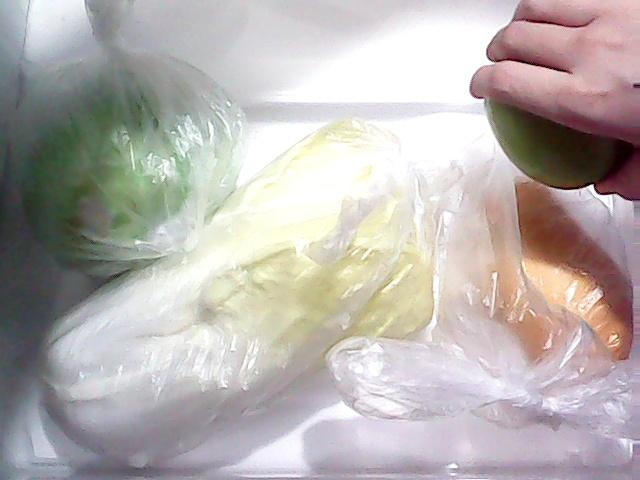cabbage: (18, 42, 242, 294)
mango: (444, 166, 638, 403)
napa cabbage: (44, 101, 438, 459)
